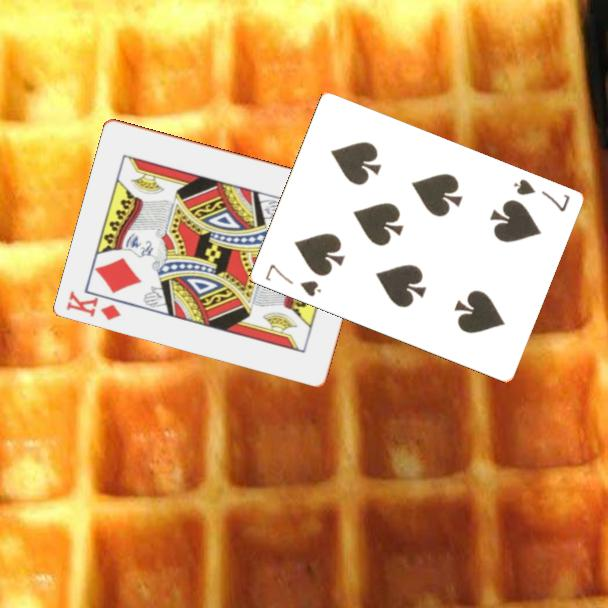d13: (63, 287, 124, 323)
s07: (261, 260, 324, 300), (509, 176, 573, 215)
